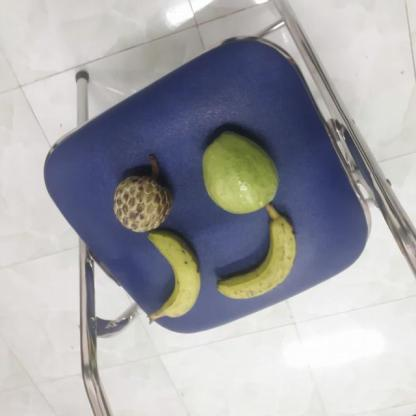annona: (112, 168, 176, 232)
banana: (218, 212, 301, 300), (146, 232, 204, 318)
guava: (203, 132, 285, 212)
